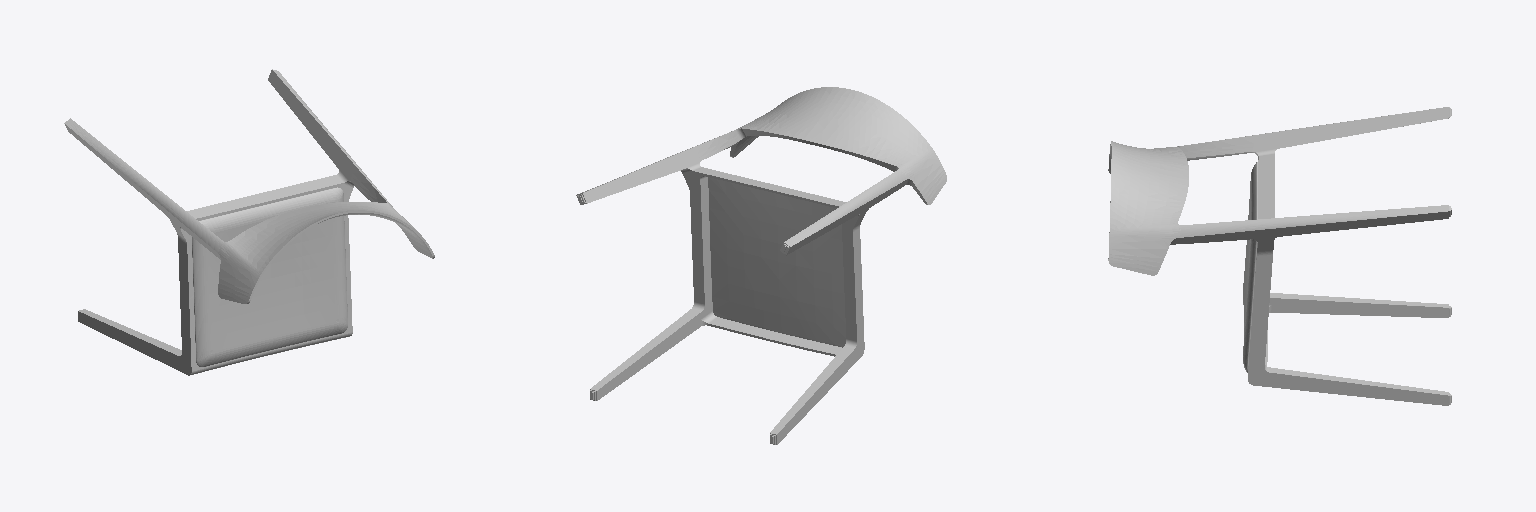
The model's file is WING.obj.
The picture shows the model from 3 angles: view 1: azimuth 30°, elevation 25°; view 2: azimuth 150°, elevation 25°; view 3: azimuth 270°, elevation 25°; orthographic projection.
Visible parts, largest first — view 1: mesh_0, mesh_7, mesh_6, mesh_1; view 2: mesh_0, mesh_1; view 3: mesh_1, mesh_0, mesh_7, mesh_6.
Boxes of the visible parts, box(x1,y1,x2,y2) form: mesh_0: box(64, 118, 339, 375); mesh_7: box(267, 187, 347, 349); mesh_6: box(192, 205, 273, 366); mesh_1: box(259, 69, 434, 354); mesh_0: box(770, 90, 946, 444); mesh_1: box(576, 87, 851, 400); mesh_1: box(1108, 152, 1448, 405); mesh_0: box(1108, 107, 1448, 344); mesh_7: box(1243, 196, 1257, 372); mesh_6: box(1243, 162, 1257, 325).
Size of the model in its own units: 0.5677 by 0.5291 by 0.7864.